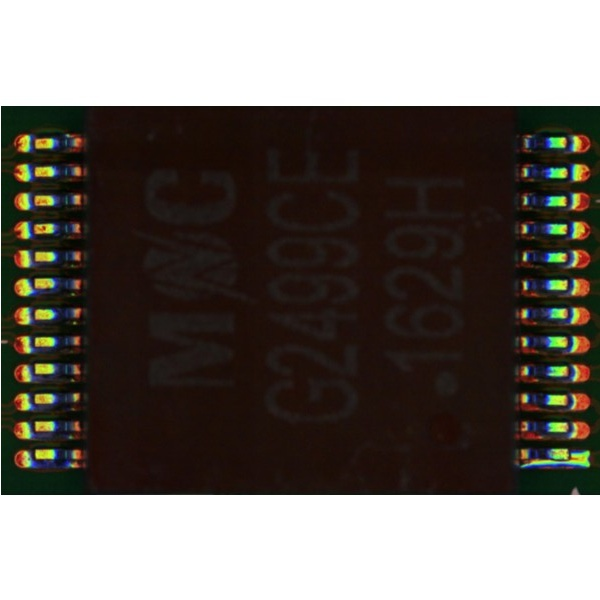Bad_podu: (561, 454, 580, 462)
Bad_qiaojiao: (519, 460, 566, 468)
